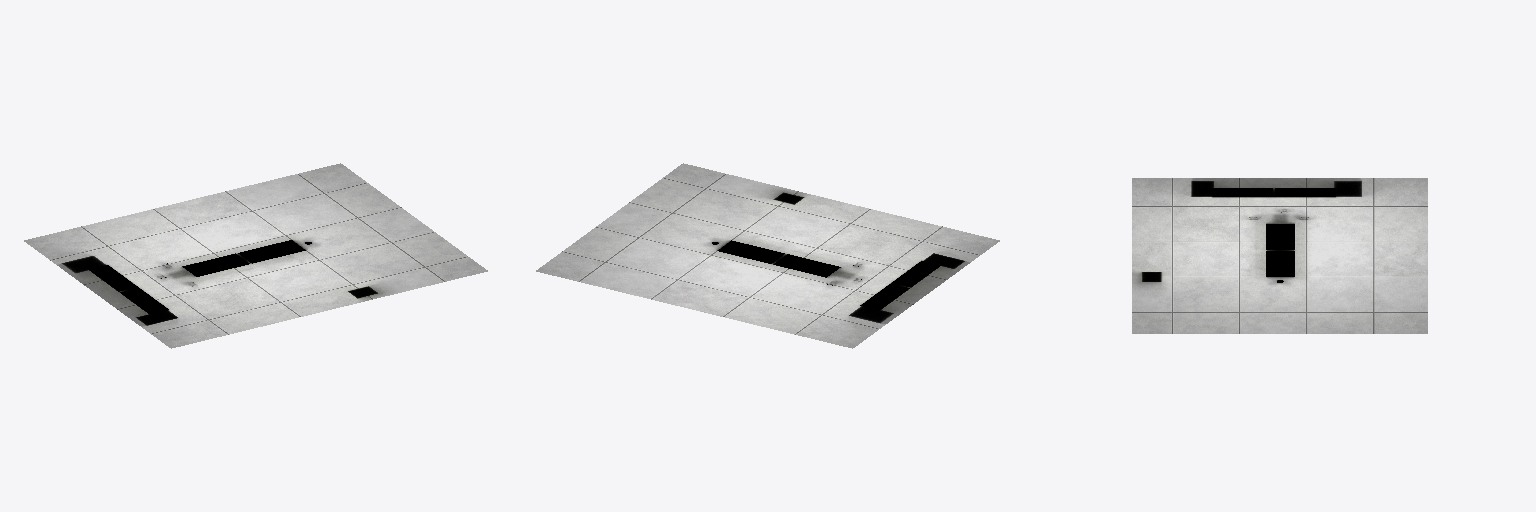
3 views of the same model, side by side, from view 1: azimuth 30°, elevation 25°; view 2: azimuth 150°, elevation 25°; view 3: azimuth 270°, elevation 25° (orthographic).
Visible parts, largest first — view 1: Plane.001; view 2: Plane.001; view 3: Plane.001.
Part boxes in pixels (left/top/right/bottom): Plane.001: left=24, top=163, right=487, bottom=348; Plane.001: left=536, top=163, right=999, bottom=348; Plane.001: left=1132, top=178, right=1427, bottom=333.
Size of the model in its own units: 88.84 by 0 by 71.55.
1 materials, 1 textured.